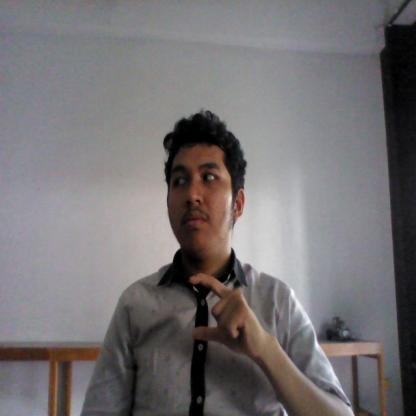C: (184, 270, 270, 364)
